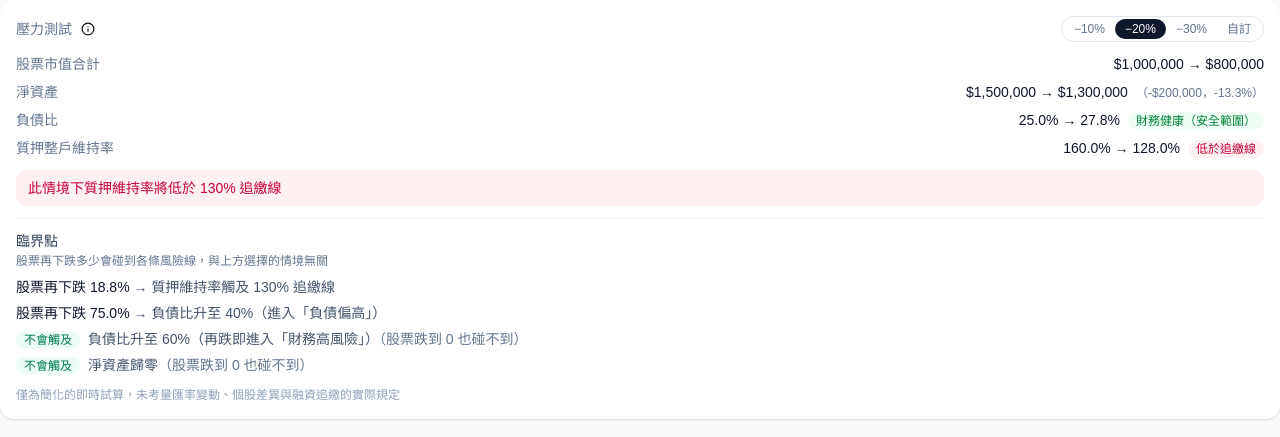
Scenario: StressTestCard › 質押整戶維持率 › −10% 時維持率 144.0%，仍高於追繳線，不顯示警示
What coordinates should you click on to do the following:
click the button "−10%"
I would click on:
 (1089, 29)
Its box is [1064,19,1115,39].
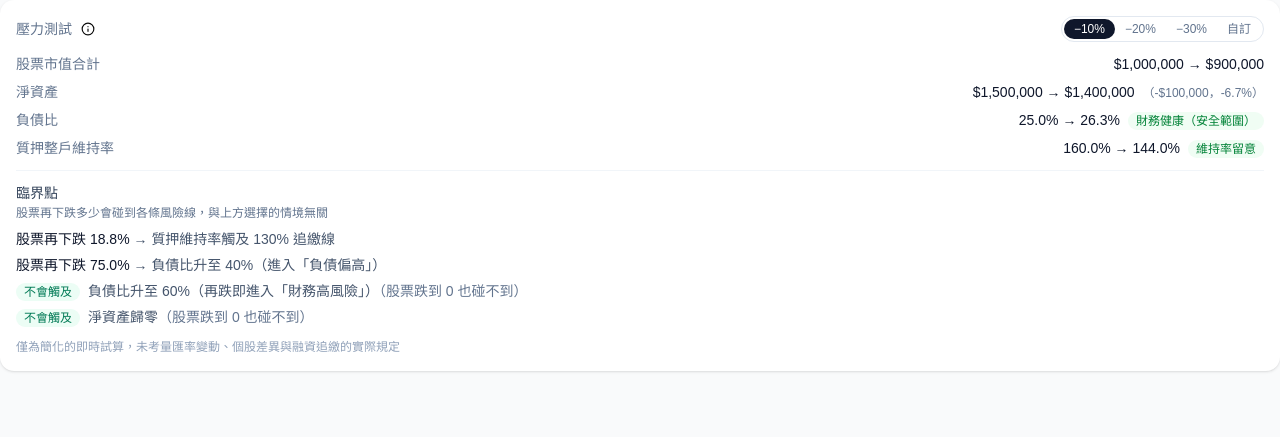
Now the text with test id "stress-test-pledge-ratio" reads "160.0% → 144.0%", box [1063,140,1180,156]
Now the text with test id "stress-test-pledge-status" reads "維持率留意", box [1196,142,1256,156]
Now the text with test id "stress-test-margin-call-warning" is gone
